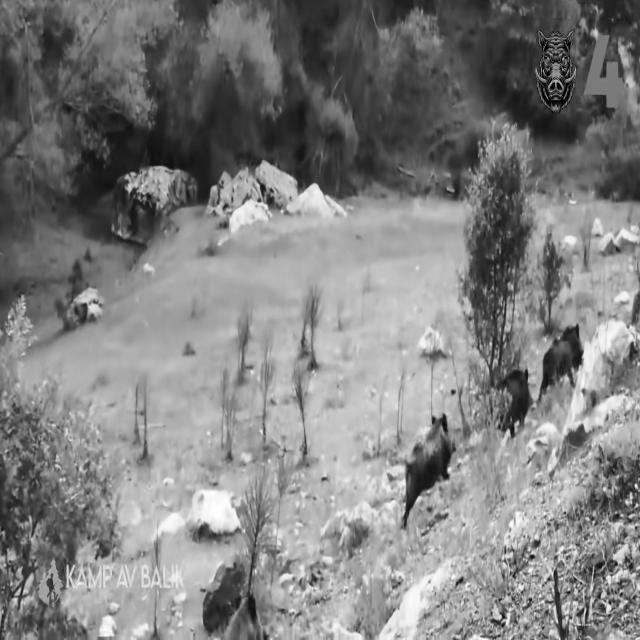boar: (403, 412, 452, 527), (540, 325, 584, 400), (502, 368, 533, 437)
